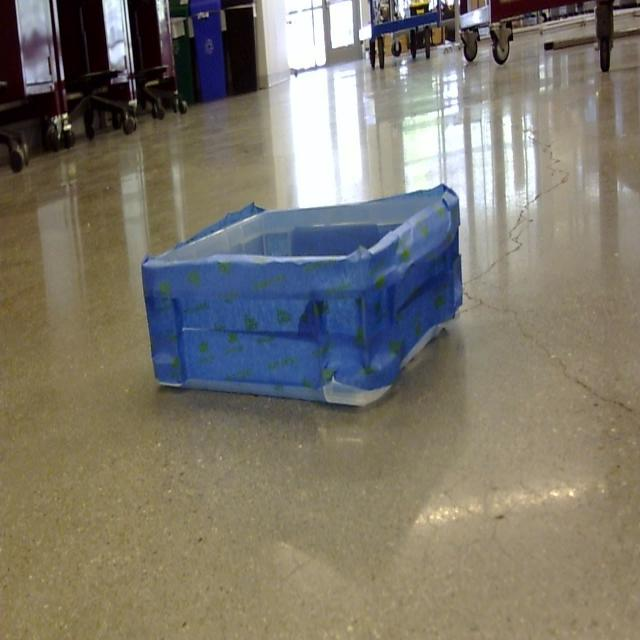bucket: (140, 187, 462, 411)
